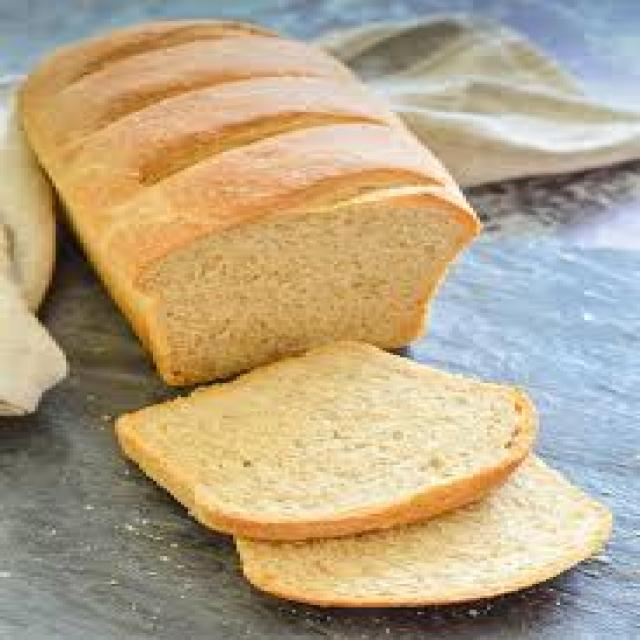bread: (19, 23, 477, 385)
